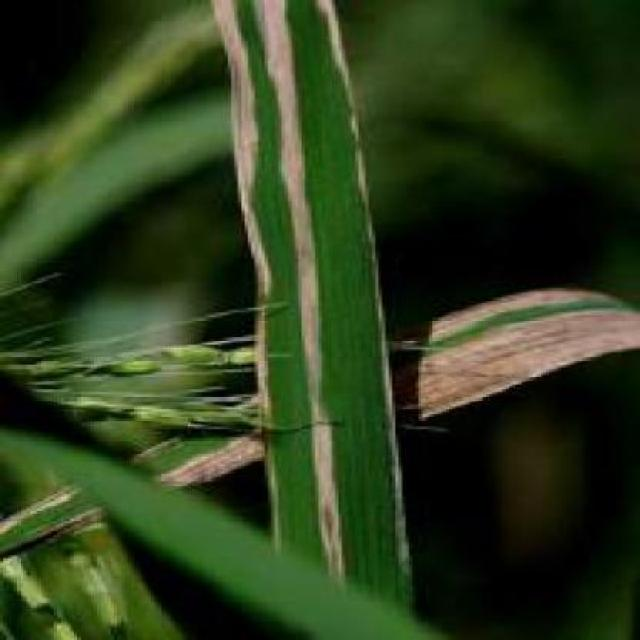Brown_Spot: (165, 0, 422, 578), (412, 258, 640, 437), (0, 477, 143, 640)
